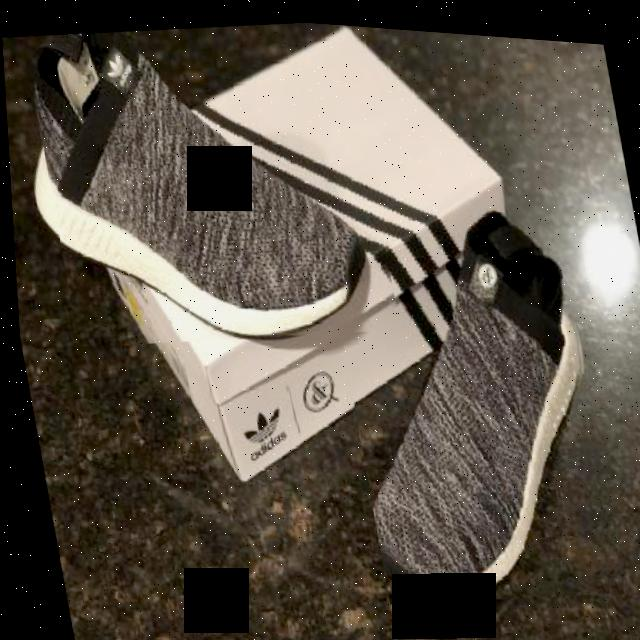shoe: (21, 1, 404, 366), (327, 243, 621, 612)
